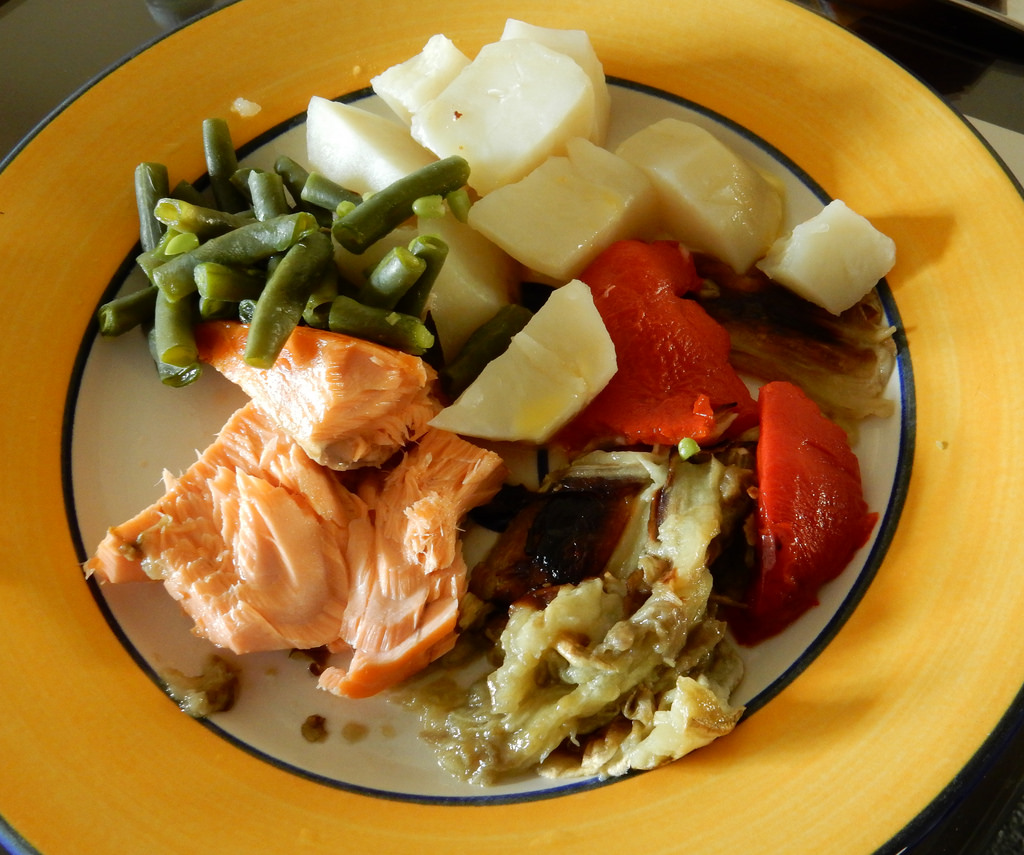boiled peas: (403, 91, 695, 214), (165, 204, 393, 296)
boiled potatoes: (429, 73, 688, 209)
